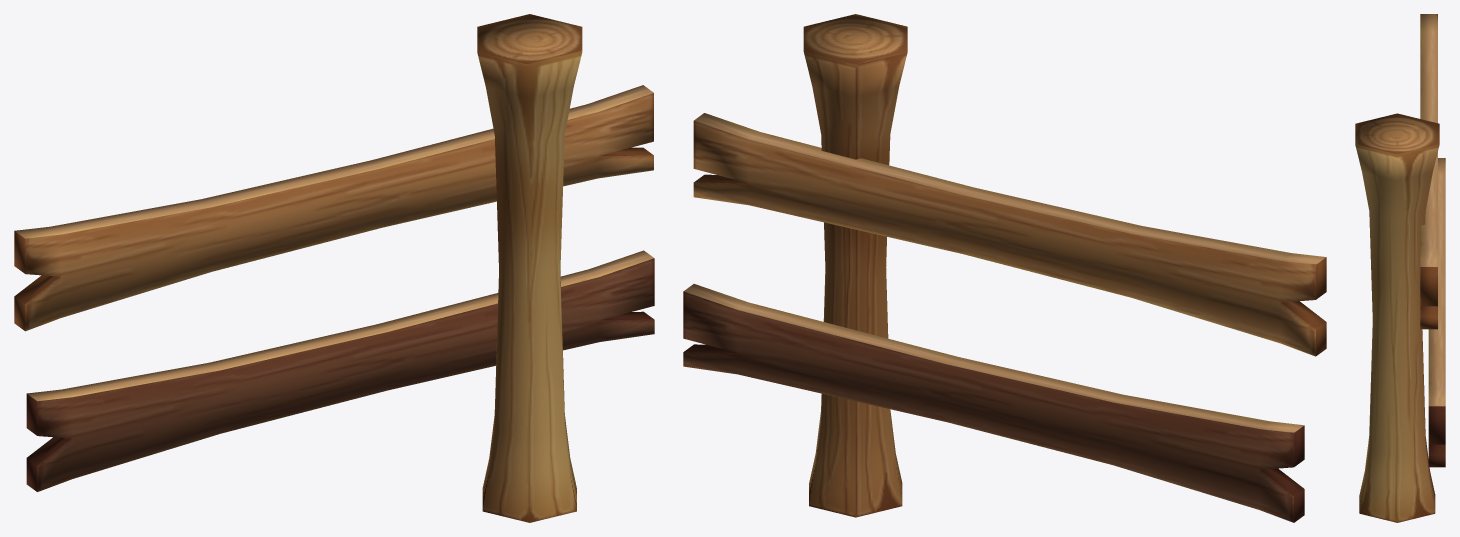
The model's file is fence_001.fbx.
The picture shows the model from 3 angles, left to right: view 1: azimuth 30°, elevation 25°; view 2: azimuth 150°, elevation 25°; view 3: azimuth 270°, elevation 25°; orthographic projection. The views are drawn at different scales.
Visible parts, largest first — view 1: polySurface4, polySurface5, pCylinder1; view 2: polySurface4, polySurface5, pCylinder1; view 3: pCylinder1, polySurface4, polySurface5.
Boxes of the visible parts, left/top/right/bottom form: polySurface4: left=14, top=85, right=653, bottom=331; polySurface5: left=26, top=250, right=654, bottom=491; pCylinder1: left=477, top=14, right=582, bottom=522; polySurface4: left=693, top=113, right=1326, bottom=356; polySurface5: left=683, top=284, right=1304, bottom=522; pCylinder1: left=803, top=14, right=907, bottom=517; pCylinder1: left=1355, top=113, right=1439, bottom=522; polySurface4: left=1420, top=14, right=1437, bottom=329; polySurface5: left=1428, top=158, right=1445, bottom=467.
Bounding box in the file's own units: 150 × 23.05 × 104.
